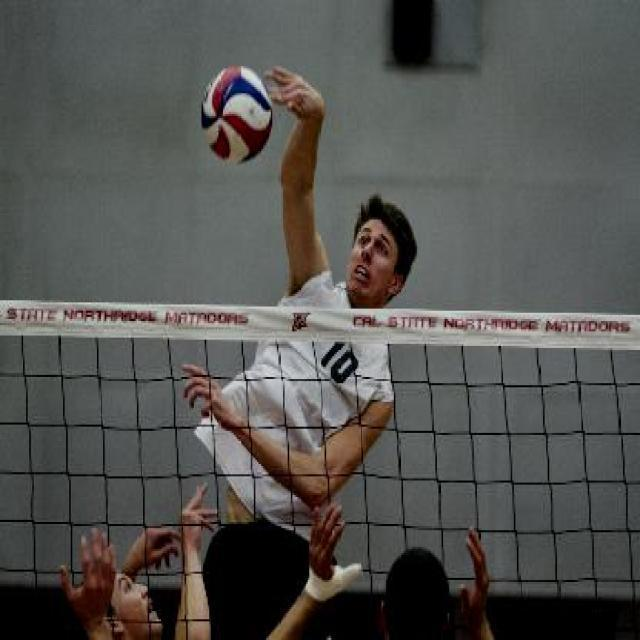volleyball: (200, 66, 274, 164)
